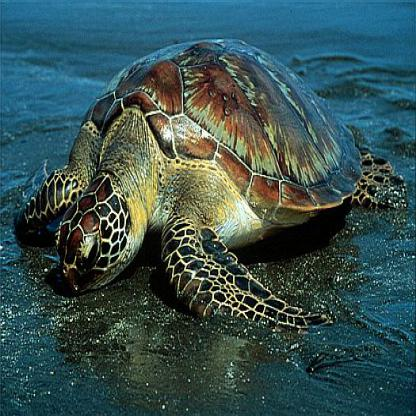turtle: (50, 165, 151, 304)
